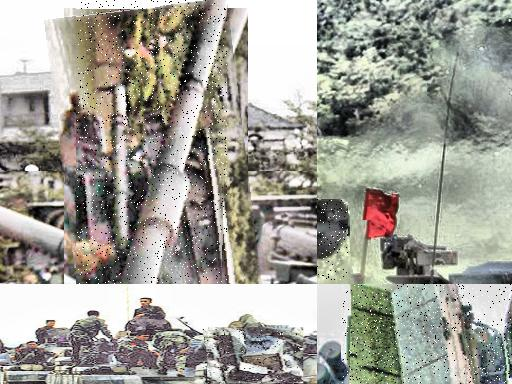tanks: (112, 1, 227, 285), (350, 285, 512, 384), (382, 237, 512, 285), (204, 330, 299, 384), (187, 315, 282, 367), (47, 362, 199, 384), (1, 343, 72, 384), (318, 201, 348, 257)
